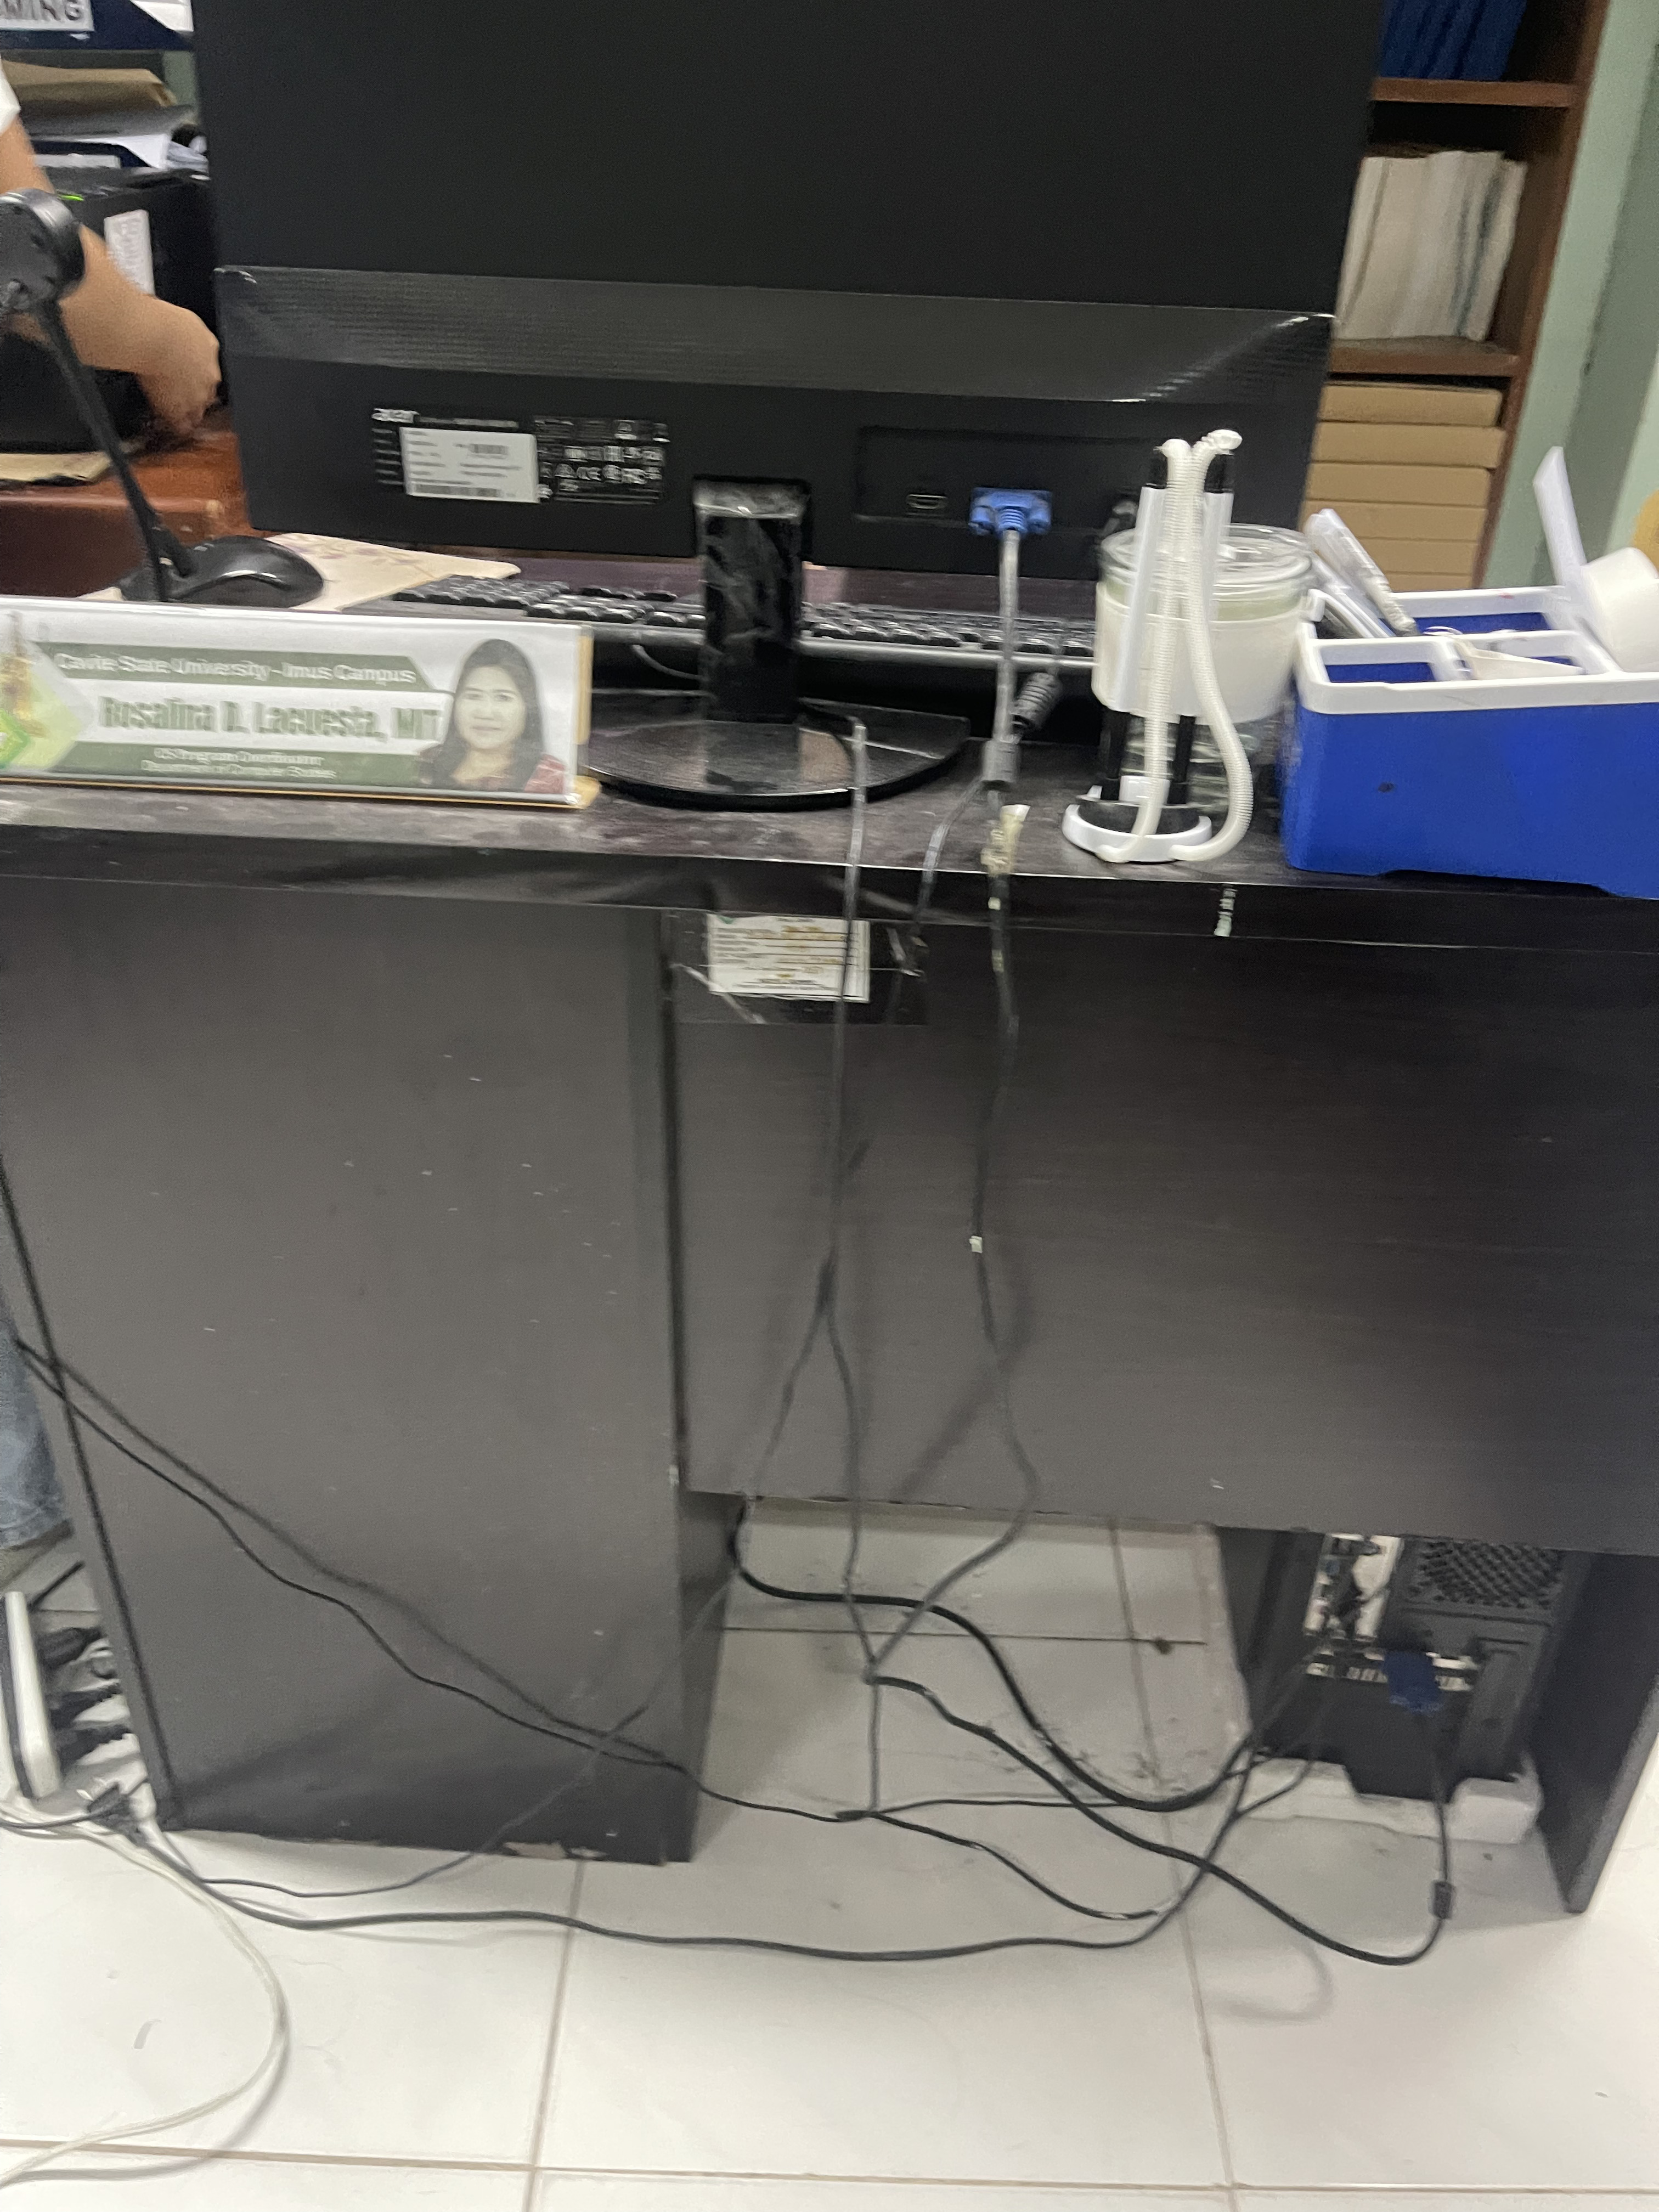table1: (7, 618, 1659, 1939)
